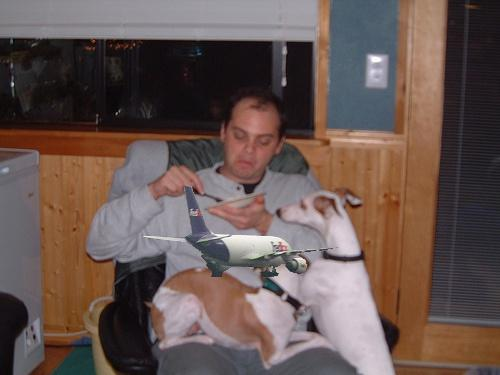tampered: (144, 187, 338, 277)
